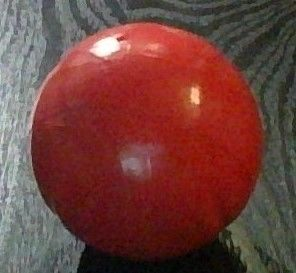red ball: (28, 21, 265, 261)
